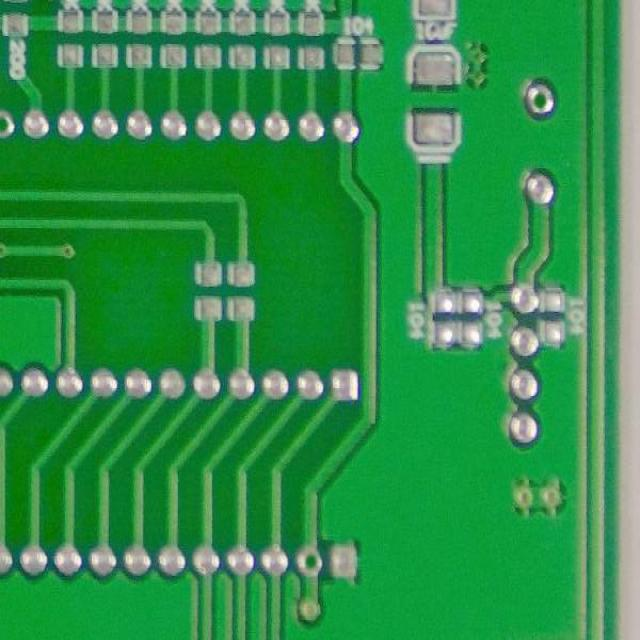missing hole: (519, 74, 558, 122), (290, 540, 329, 583)
